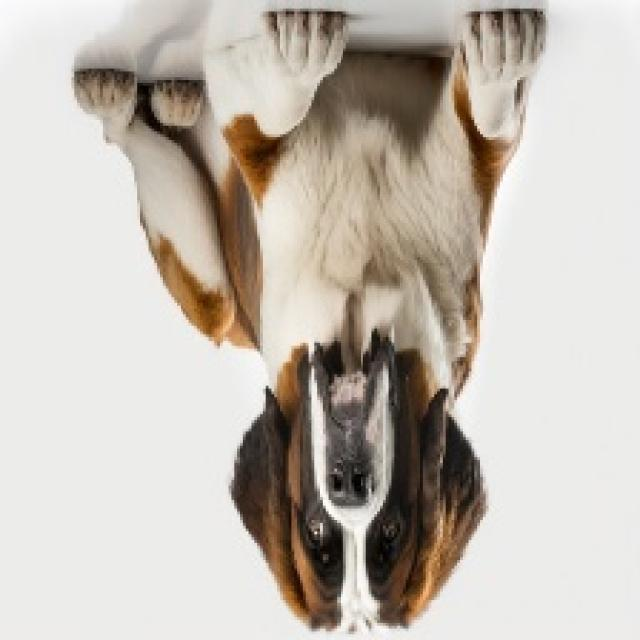animal: (97, 21, 606, 626)
